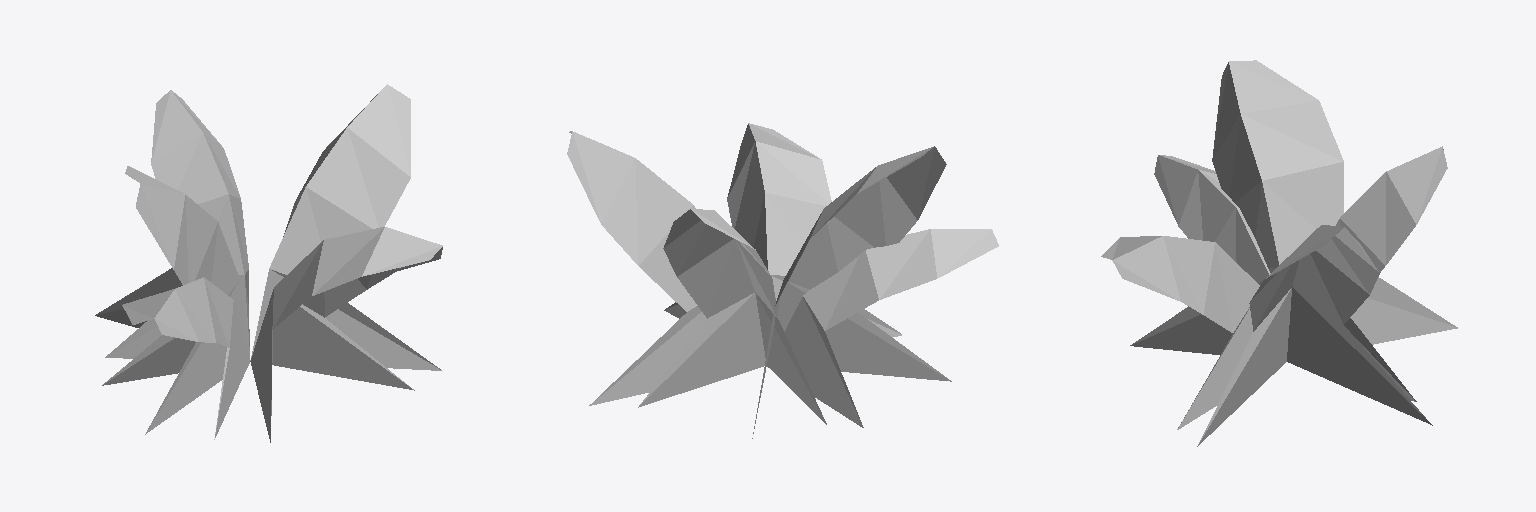
File: banana plant 02_lod4.obj
3 renders of one model, left to right at view 1: azimuth 30°, elevation 25°; view 2: azimuth 150°, elevation 25°; view 3: azimuth 270°, elevation 25°, orthographic.
Parts seen in each view (by area): view 1: tree; view 2: tree; view 3: tree.
Part boxes in pixels (x1,y1,x2,y2): tree: (95, 84, 442, 442); tree: (567, 123, 998, 438); tree: (1101, 60, 1457, 446).
Bounding box in the file's own units: 247 × 167 × 216.